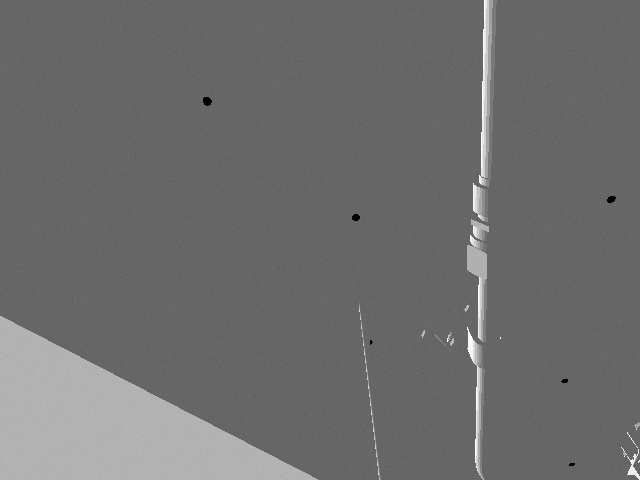hole: (201, 95, 214, 108), (605, 194, 618, 205), (350, 212, 362, 223), (566, 460, 577, 469), (559, 377, 570, 385)
